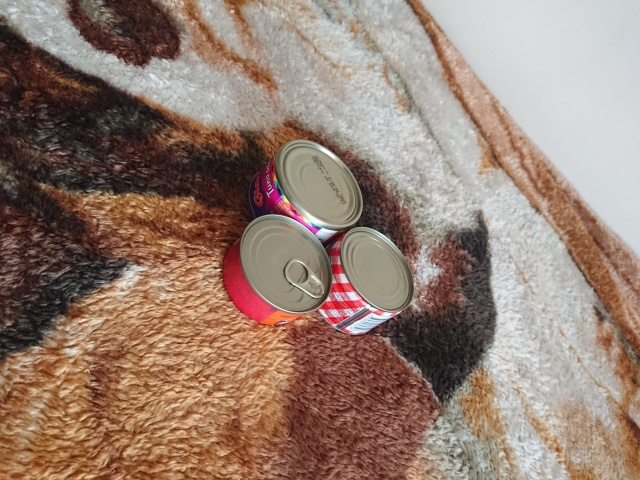Gavrilovic Pork Liver Pate 100g: (218, 212, 335, 330)
Giana Tuna Salad Mexico 185g: (246, 138, 365, 257)
Podravka Luncheon Meat 150g: (311, 224, 417, 339)
